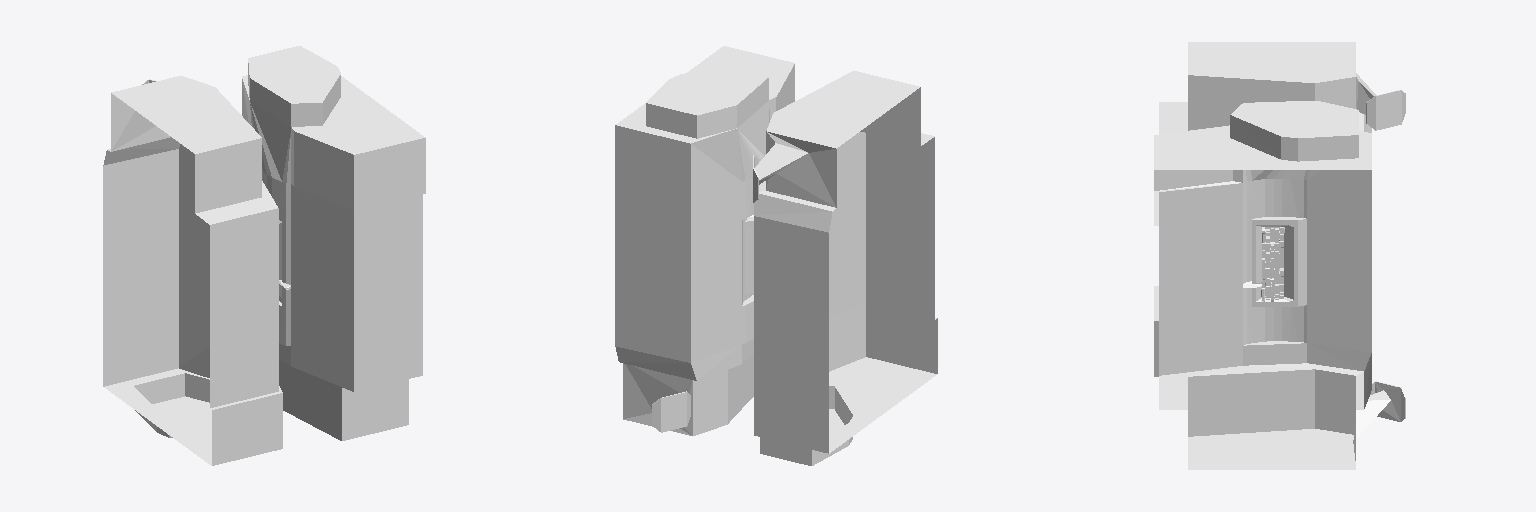
Rendered from boardingaction_Lightmap.obj.
The picture shows the model from 3 angles: view 1: azimuth 30°, elevation 25°; view 2: azimuth 150°, elevation 25°; view 3: azimuth 270°, elevation 25°; orthographic projection.
Parts seen in each view (by area): view 1: boardingaction_Lightmap_7, boardingaction_Lightmap_1, boardingaction_Lightmap_9, boardingaction_Lightmap_16; view 2: boardingaction_Lightmap_1, boardingaction_Lightmap_9, boardingaction_Lightmap_7, boardingaction_Lightmap_16; view 3: boardingaction_Lightmap_1, boardingaction_Lightmap_7, boardingaction_Lightmap_9, boardingaction_Lightmap_16, boardingaction_Lightmap_0.
Boxes of the visible parts, box(x1,y1,x2,y2) form: boardingaction_Lightmap_7: box(104, 46, 425, 465); boardingaction_Lightmap_1: box(103, 76, 353, 407); boardingaction_Lightmap_9: box(103, 63, 340, 437); boardingaction_Lightmap_16: box(142, 80, 322, 437); boardingaction_Lightmap_1: box(615, 71, 934, 453); boardingaction_Lightmap_9: box(615, 78, 934, 465); boardingaction_Lightmap_7: box(616, 46, 937, 453); boardingaction_Lightmap_16: box(623, 97, 936, 444); boardingaction_Lightmap_1: box(1159, 42, 1371, 375); boardingaction_Lightmap_7: box(1154, 75, 1390, 469); boardingaction_Lightmap_9: box(1159, 73, 1405, 460); boardingaction_Lightmap_16: box(1154, 81, 1405, 421); boardingaction_Lightmap_0: box(1265, 227, 1284, 298).
Size of the model in its own units: 13483 by 19456 by 13706.